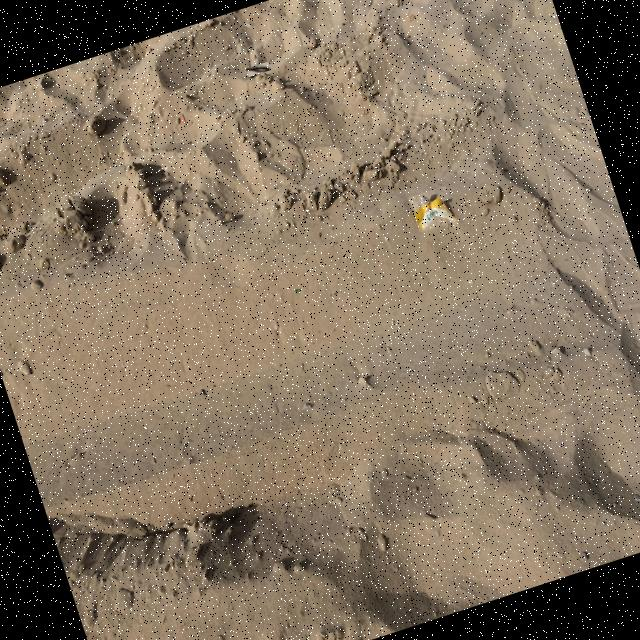Plastic straw: (247, 67, 271, 72)
Squeezable tube: (415, 194, 457, 230)
